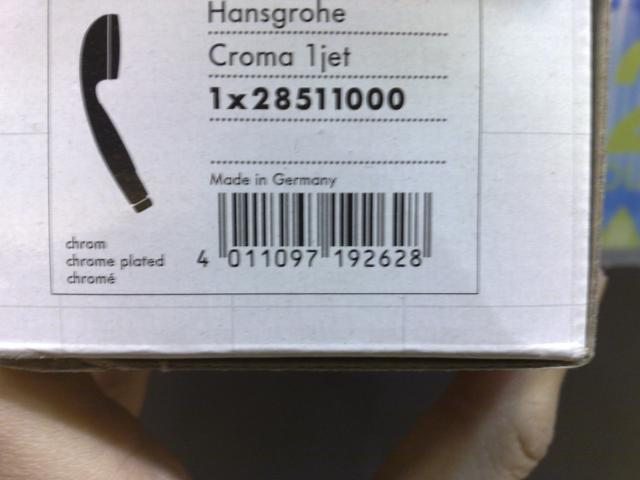Barkod: (215, 192, 432, 246)
